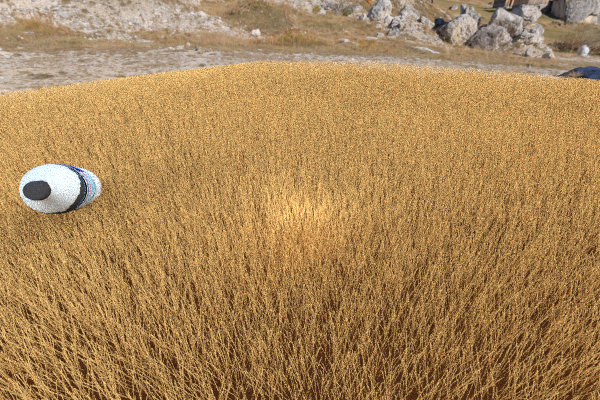bottle: (19, 163, 101, 214)
can: (286, 109, 341, 140), (324, 72, 356, 90)
